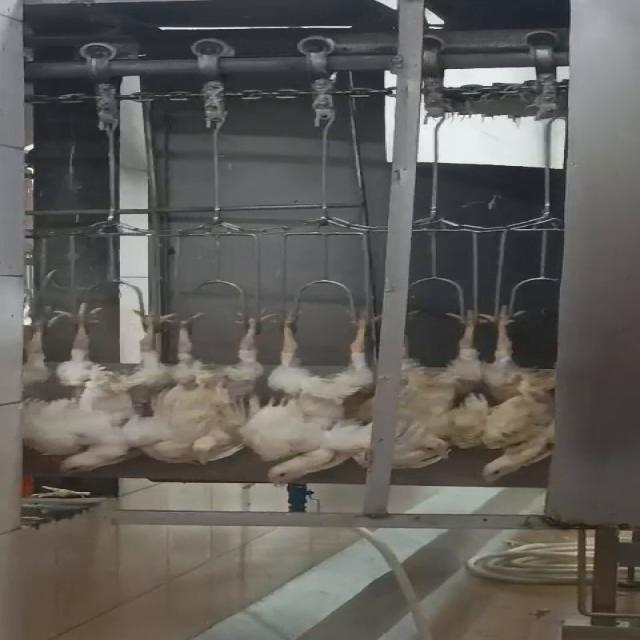chicken: (238, 298, 384, 486), (361, 300, 507, 467), (44, 304, 176, 473), (156, 304, 272, 468), (470, 302, 566, 482), (12, 313, 72, 401)
